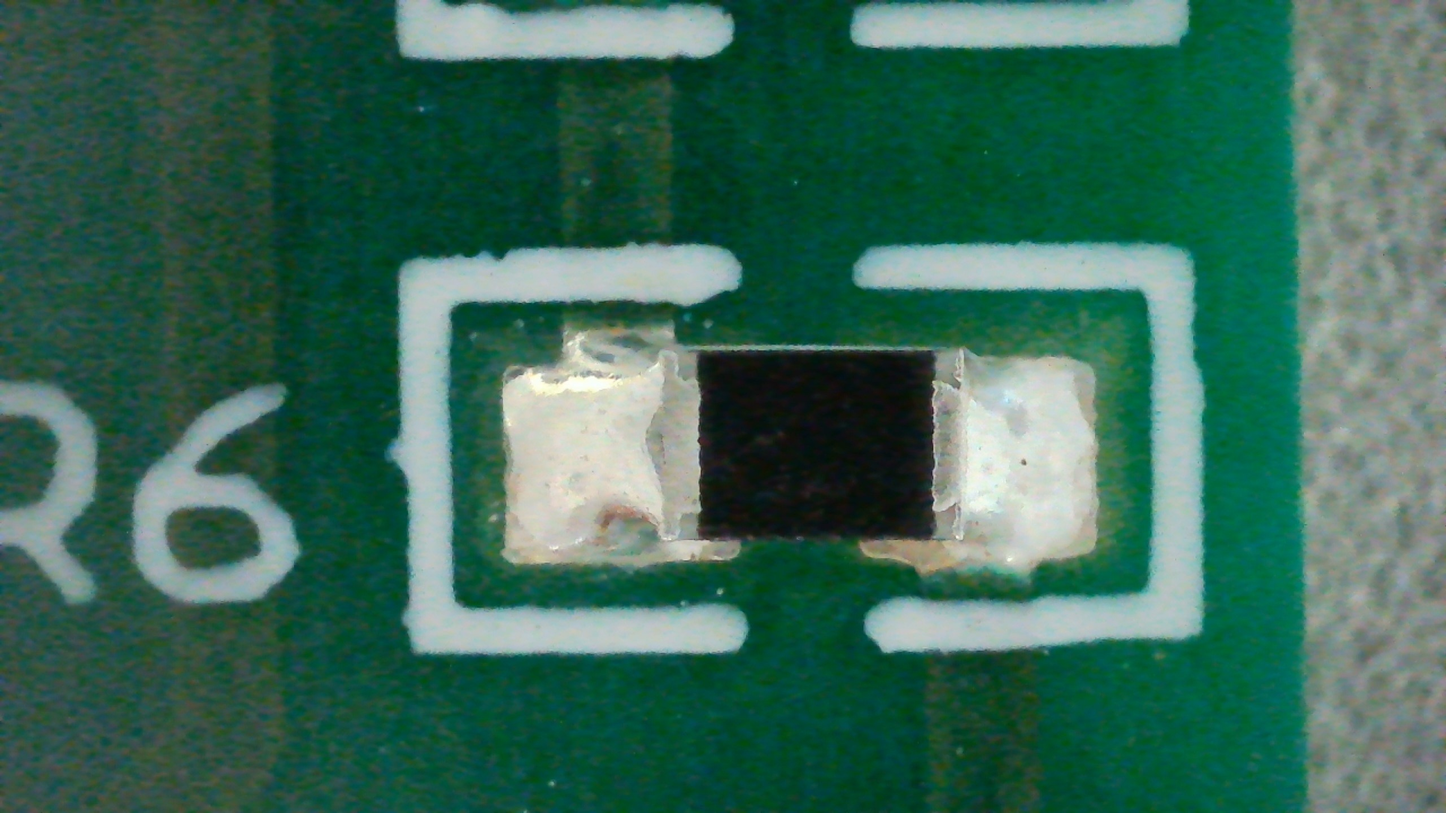OK: (500, 324, 1097, 579)
